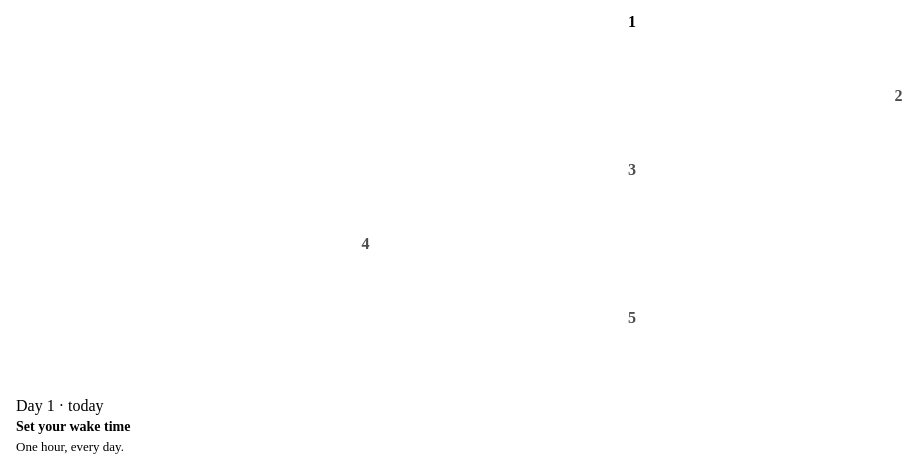
Test: nothing is ever locked › opens a future day's guide on the first day of the programme
Click the button named "Day 5" at x=632, y=318, box [607,293,657,343]
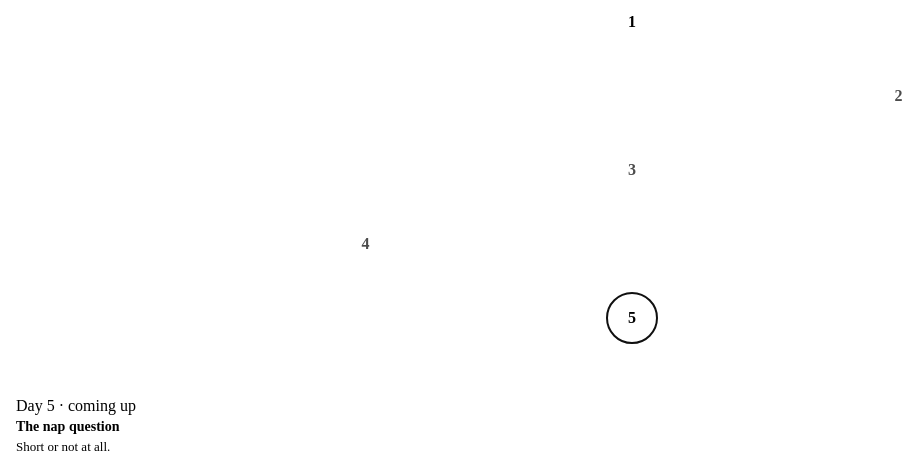
Expected: the heading "The nap question" is shown, [16,419,120,434]
Expected: the text "Short or not at all." is shown, [16,439,110,454]
